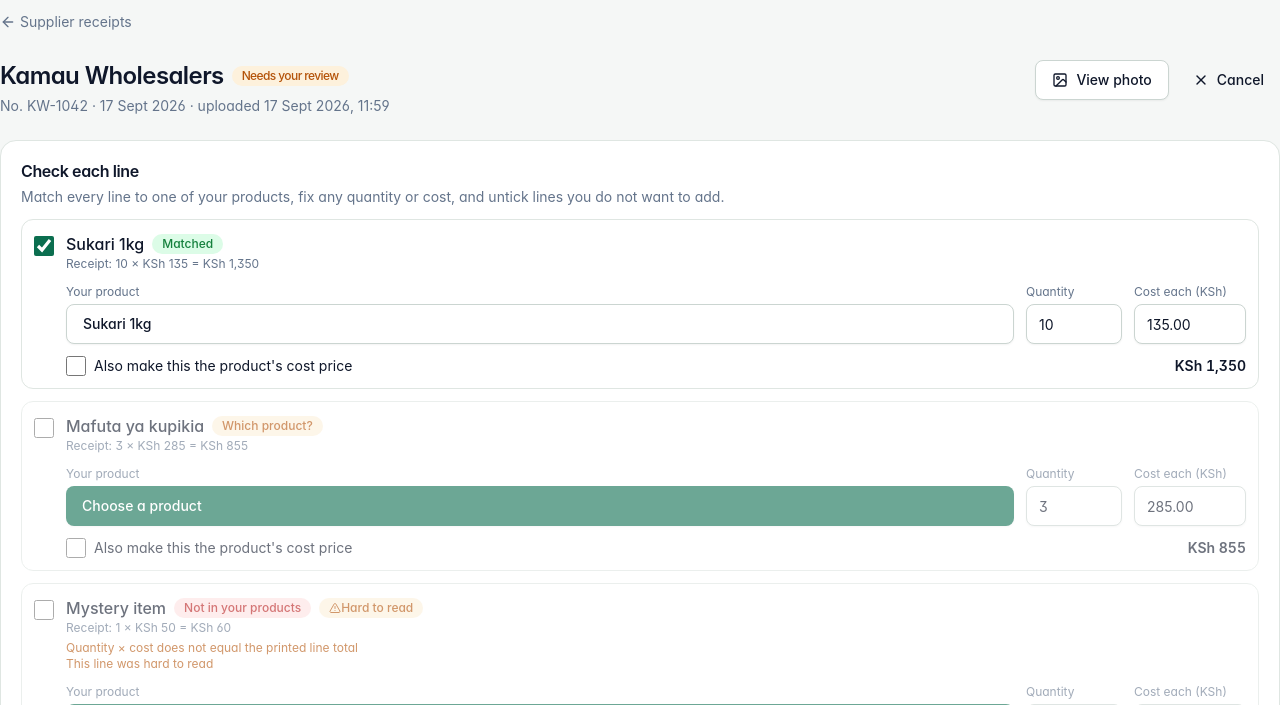
Test: ReceiptReviewPage › lets the owner pick a product for an ambiguous line, edit values, and confirms with the final decisions
Check: the text "Which product?" is shown, box [212, 416, 323, 436]
Resolve the ambiguous line through the product picker.
Click the button "Choose a product" below "KSh 285". click: (142, 506)
box: [66, 486, 1014, 526]
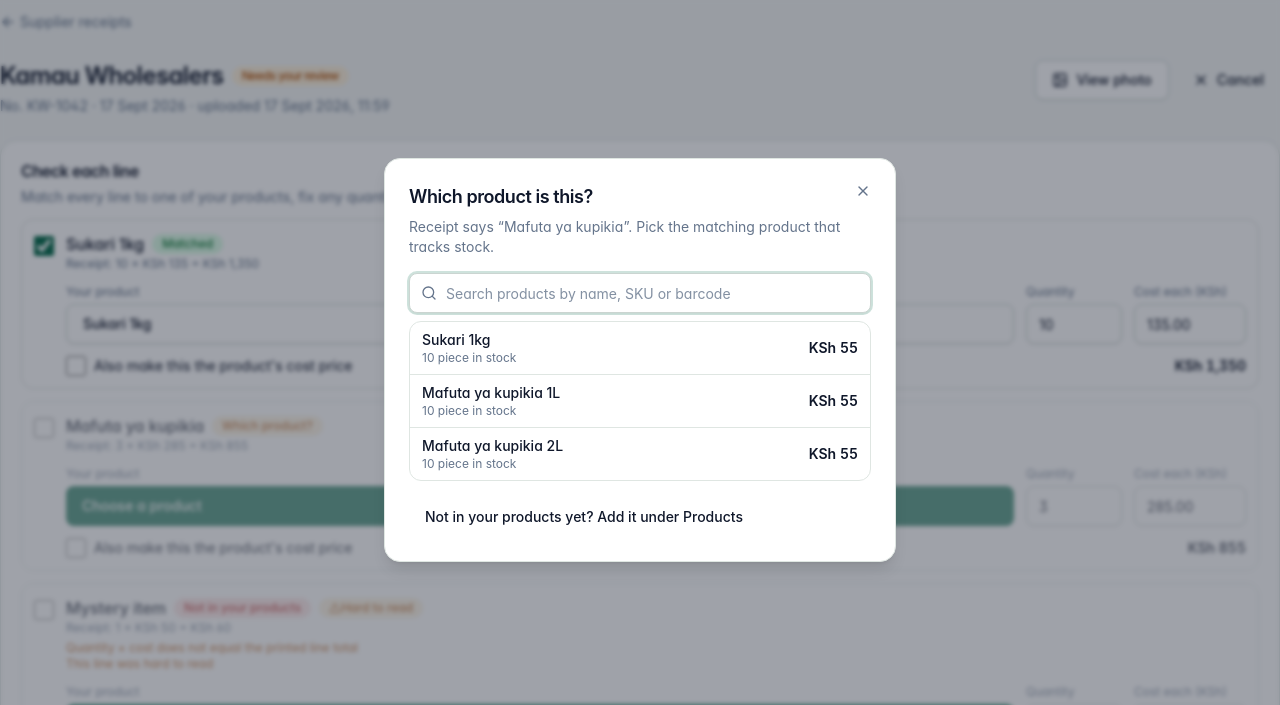
Click the button "Mafuta ya kupikia 1L 10 piece in stock KSh 55". click: (491, 392)
box: [410, 375, 870, 427]
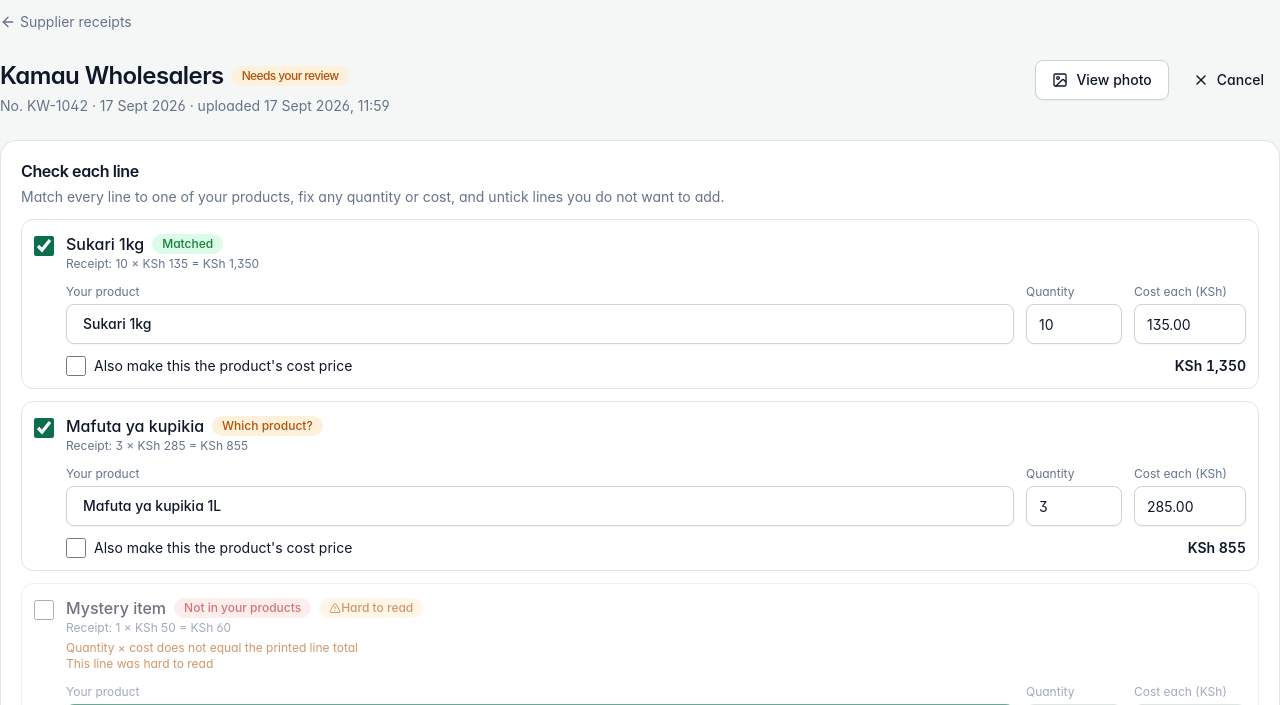
Check: the checkbox named "Include Mafuta ya kupikia" is checked, box [34, 418, 54, 438]
Correct the sugar quantity and tick the cost update.
Replace the text in the 1st field labelled "Quantity" with "8". click: (1074, 324)
box: [1026, 304, 1122, 344]
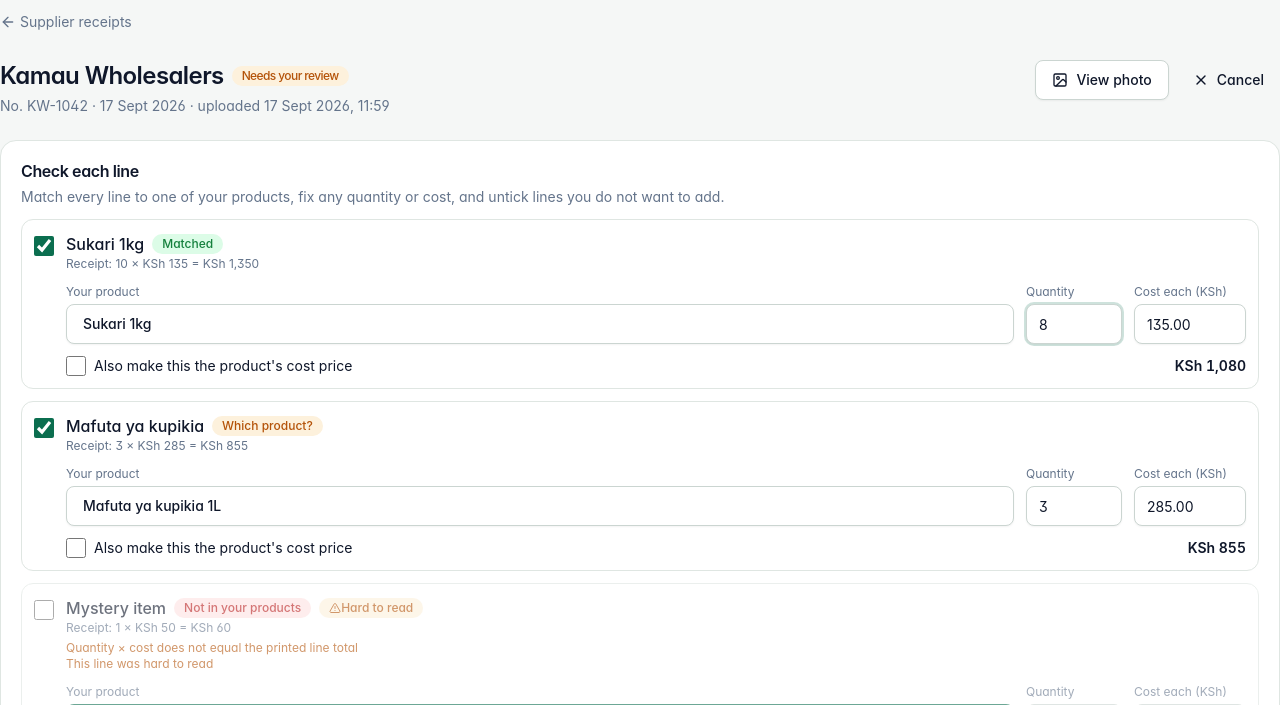
Click the checkbox labelled "Also make this the product's cost price" below "= KSh 855". click: (76, 548)
box: [66, 538, 86, 558]
(page scrolled)
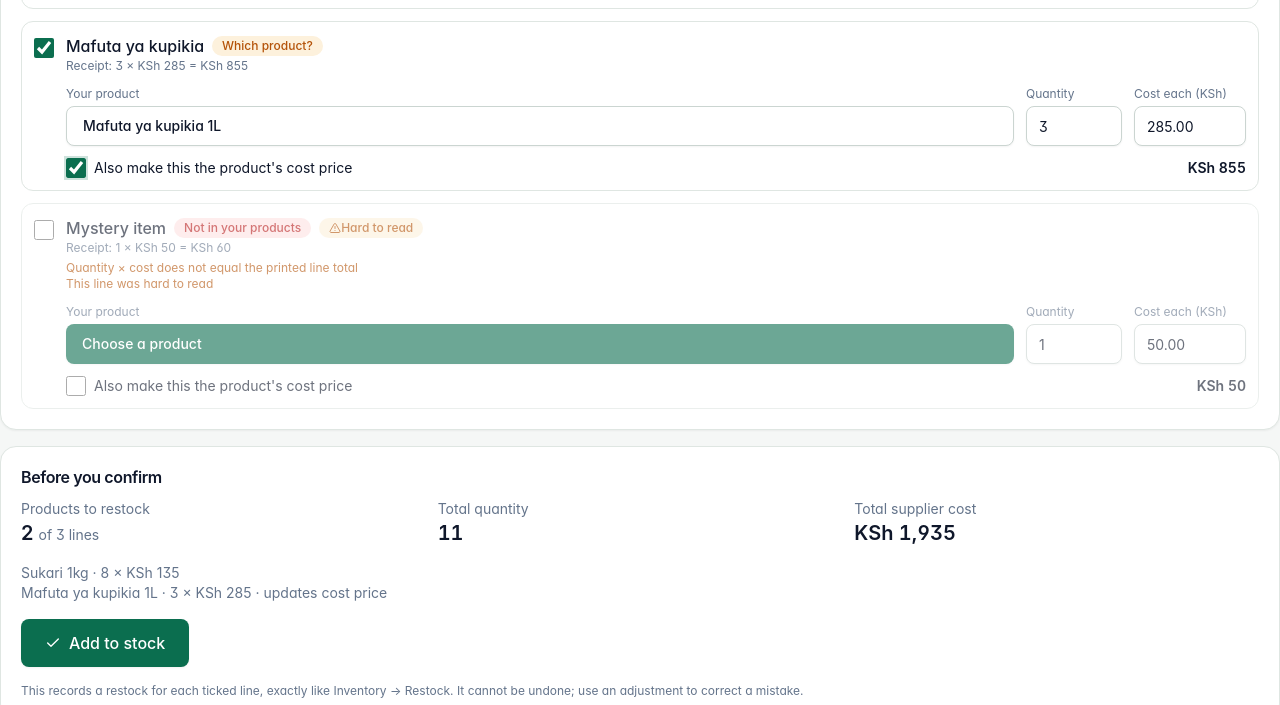
Check: the element showing "2 of 3 lines" is shown, box [21, 521, 99, 545]
Check: the text "KSh 1,935" is shown, box [854, 521, 956, 545]
Click the button "Add to stock". click: (105, 643)
box: [21, 619, 189, 667]
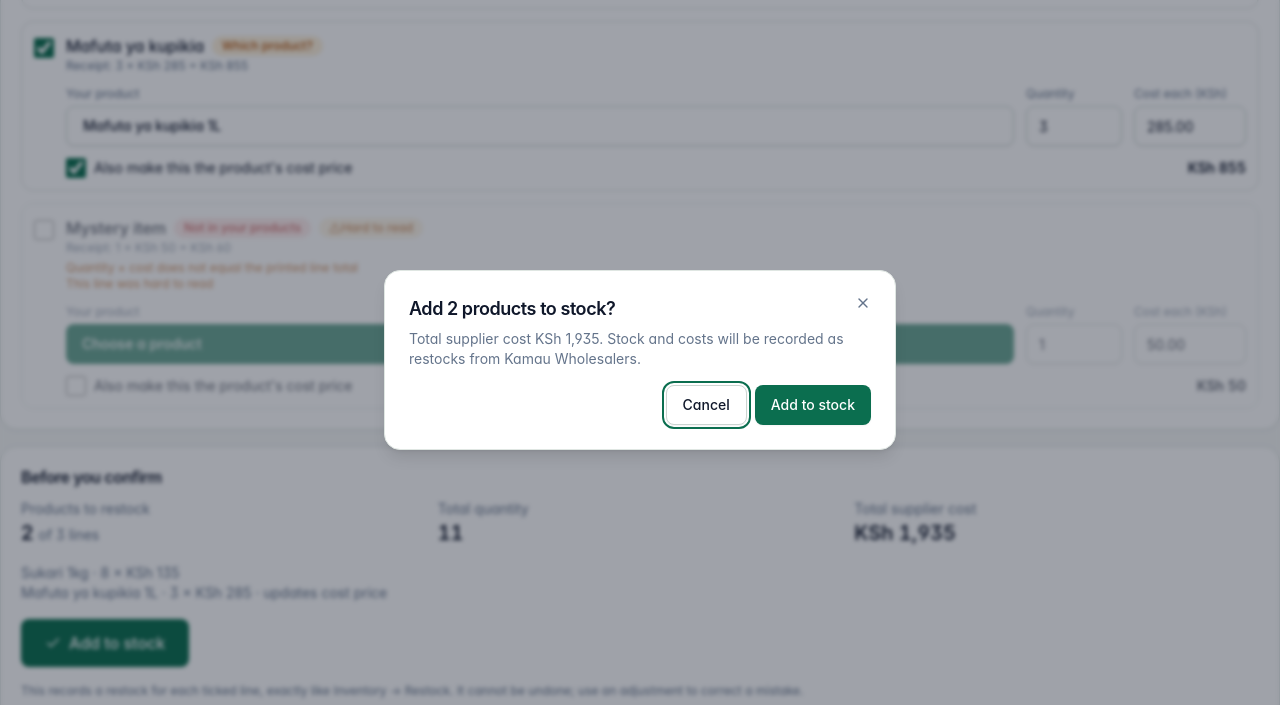
Click the button "Add to stock". click: (813, 405)
box: [755, 385, 871, 425]
(page scrolled)
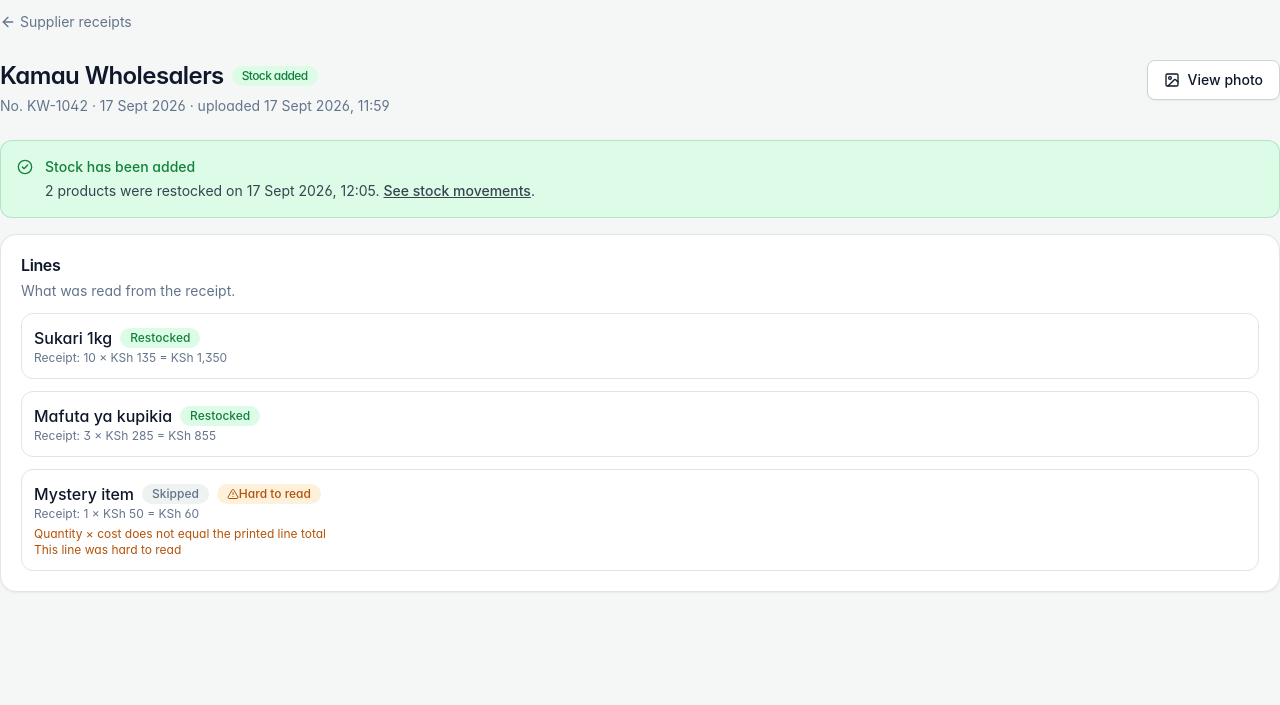
Check: the text "Stock has been added" is shown, box [45, 158, 195, 175]
Check: the text "Skipped" is shown, box [142, 484, 209, 504]
Check: the button "Add to stock" is gone
